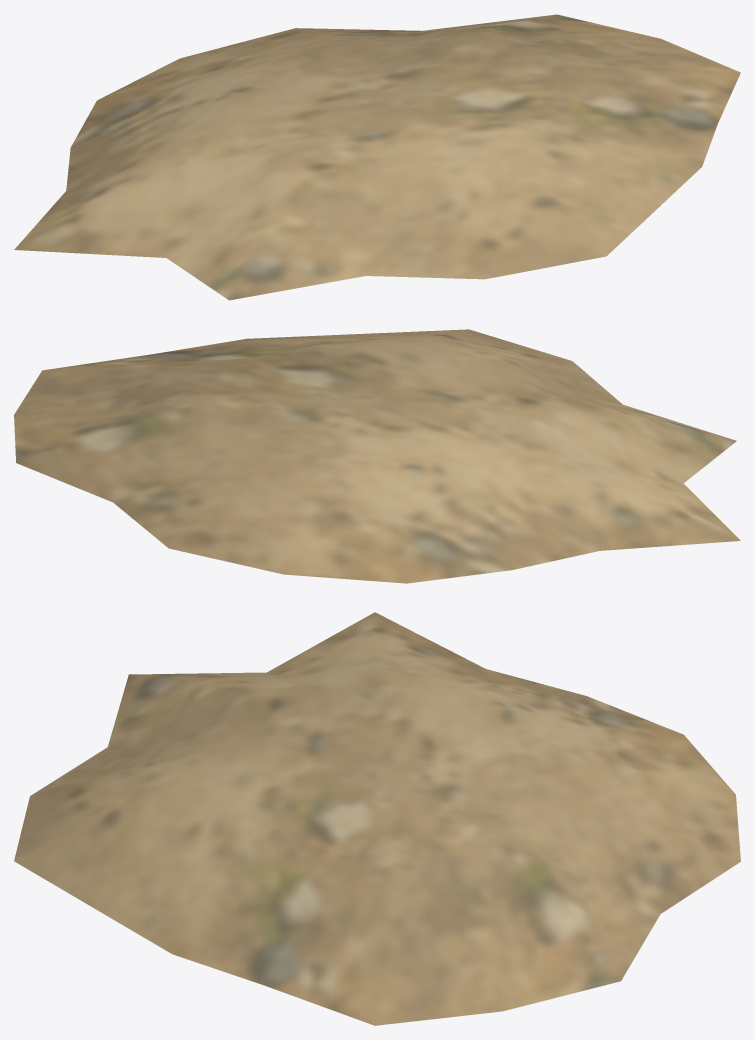
Rendered from Transition_Soil_A.glb.
The picture shows the model from 3 angles, top to bottom: view 1: azimuth 30°, elevation 25°; view 2: azimuth 150°, elevation 25°; view 3: azimuth 270°, elevation 25°; orthographic projection. The views are drawn at different scales.
Visible parts, largest first — view 1: Transition_Soil_A; view 2: Transition_Soil_A; view 3: Transition_Soil_A.
Part boxes in pixels (left/top/right/bottom): Transition_Soil_A: left=14, top=14, right=740, bottom=300; Transition_Soil_A: left=14, top=329, right=740, bottom=583; Transition_Soil_A: left=14, top=612, right=740, bottom=1025.
Size of the model in its own units: 2.32 by 0.162 by 1.73.
Materials: 1 (1 with a texture image).
